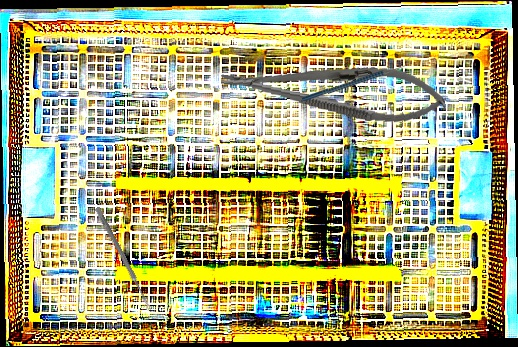Chopper: (301, 55, 412, 103)
Needle Holder: (218, 50, 449, 129)
Surgical Spoon: (93, 206, 154, 312)
